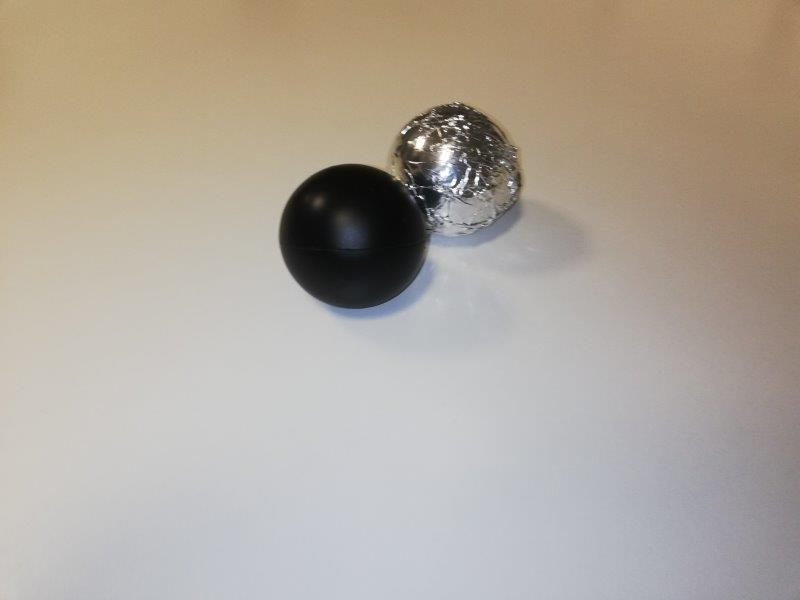bianca: (389, 105, 519, 234)
nera: (275, 164, 436, 307)
